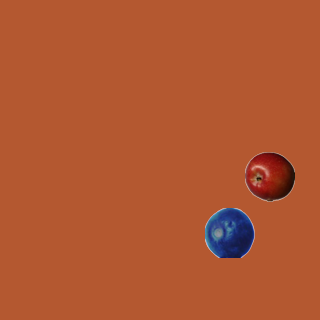Apple Braeburn: (244, 151, 294, 201)
Huckleberry: (204, 207, 254, 257)
